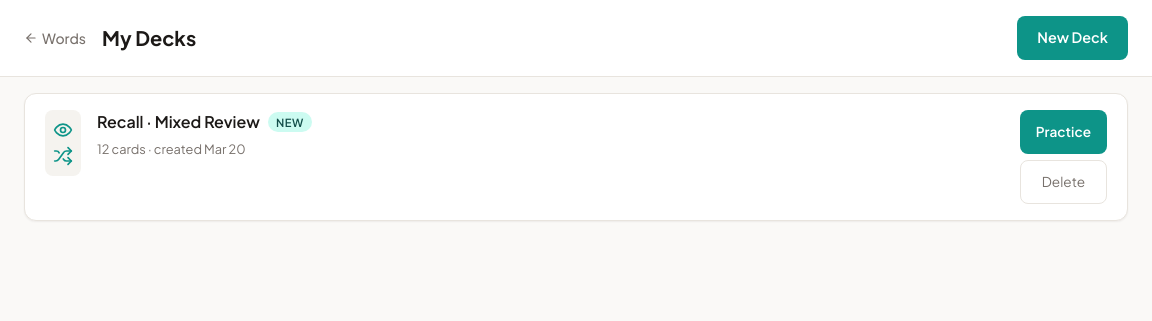
Scenario: FlashcardDecks — starting practice › surfaces a failure to start
Click the button with aria-label "Start practice for Travel words" at (1063, 132), box [1020,110,1107,154]
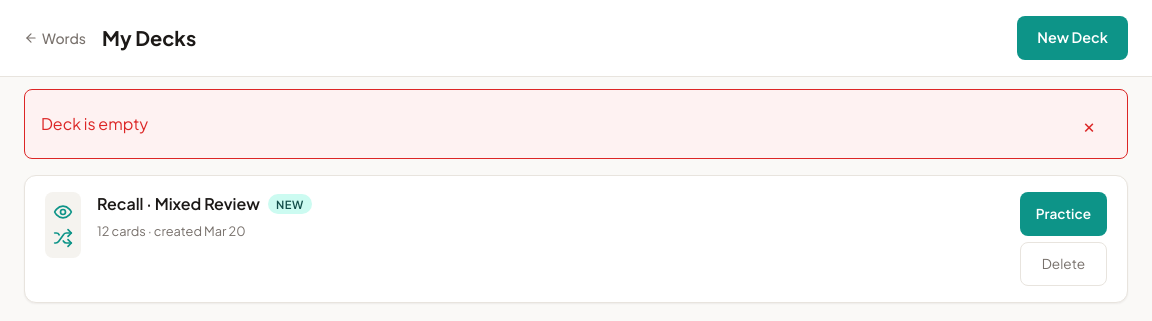
Check: the text "Deck is empty" is shown, box [41,112,148,136]
